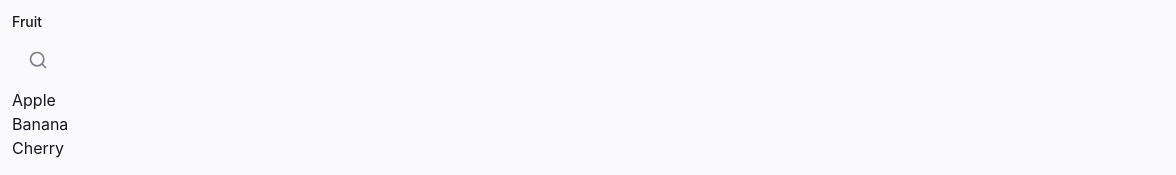
Test: Combobox › with no options it collapses and shows its status
This screenshot has width=1176, height=175.
Step 1. Type "zzz" into the dropdown labelled "Fruit" → point(588, 60), box [12,32,1164,88]
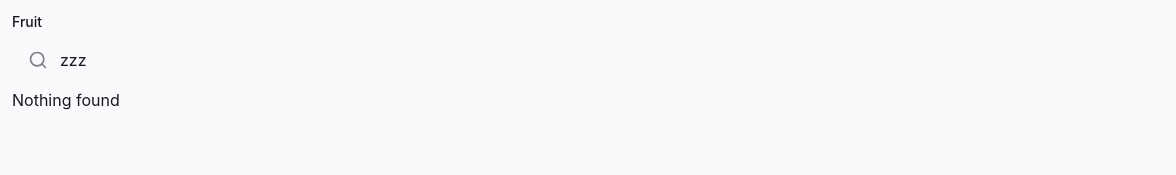
Check: the dropdown labelled "Fruit" is collapsed, box [12,32,1164,88]
Check: the text "Nothing found" is shown, box [12,90,120,110]
